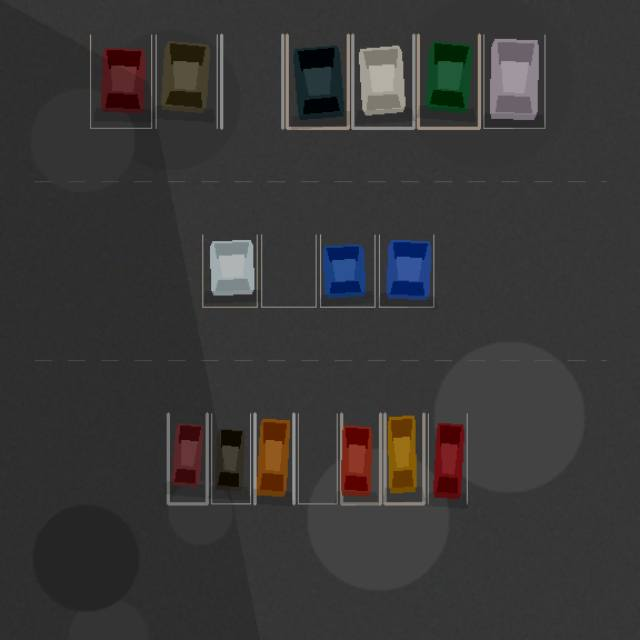space-empty: (221, 34, 282, 128), (261, 234, 316, 307), (298, 413, 337, 503)
space-occupied: (90, 34, 151, 128), (156, 34, 217, 128), (287, 34, 348, 128), (352, 34, 413, 128), (418, 34, 479, 128), (483, 34, 544, 128), (202, 234, 257, 307), (320, 234, 374, 307), (379, 234, 433, 307), (168, 413, 207, 503), (211, 413, 250, 503), (254, 413, 293, 503), (341, 413, 380, 503), (384, 413, 423, 503), (428, 413, 467, 503)
